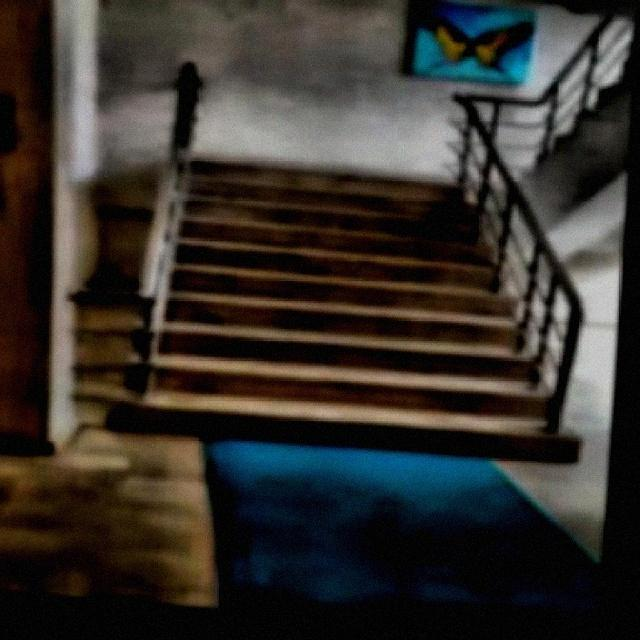stair: (105, 156, 604, 470)
